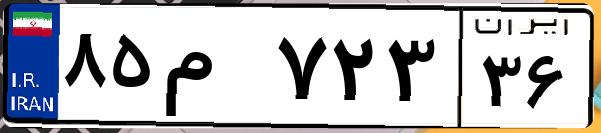2: (330, 28, 385, 110)
3: (385, 28, 445, 110), (475, 38, 525, 113)
5: (110, 28, 158, 98)
6: (525, 38, 570, 115)
7: (270, 28, 330, 110)
8: (57, 26, 110, 100)
م: (158, 20, 270, 120)
